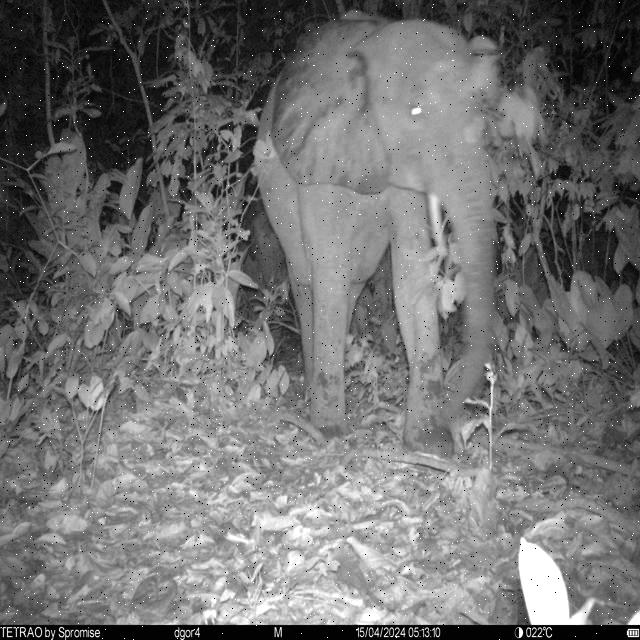ear: (272, 18, 392, 195)
elephant: (250, 9, 512, 457)
tusk: (424, 190, 450, 256)
